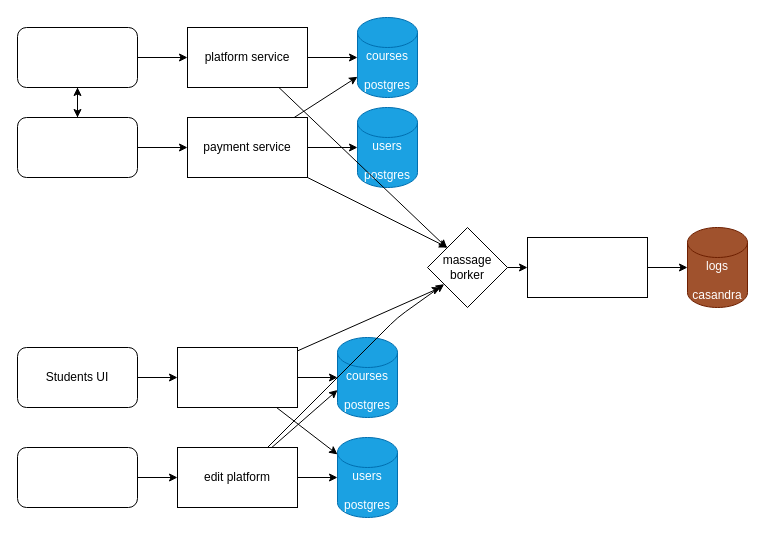
Some shapes in this 765 by 535 pixel diagram are drawn without their labels. Here are the shapes that lost their labels. From the top down, the box of each, then its label:
(16, 26, 138, 88): lending UI
(16, 116, 138, 178): checkout UI
(526, 236, 648, 298): logging service
(176, 346, 298, 408): learing platoform
(16, 446, 138, 508): Editors UI
